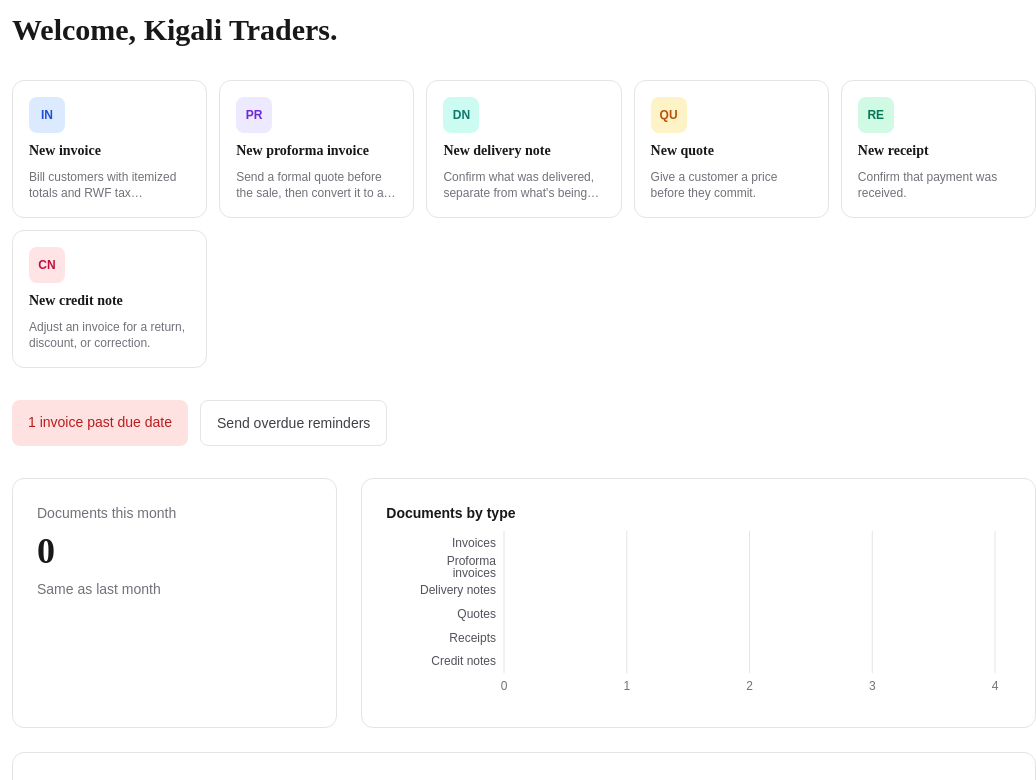
Test: Dashboard › sends reminders and shows a confirmation when 'Send reminders' is clicked
The width and height of the screenshot is (1036, 780).
Click the button "Send overdue reminders". click: (294, 423)
box: top-left (200, 400), bottom-right (387, 446)
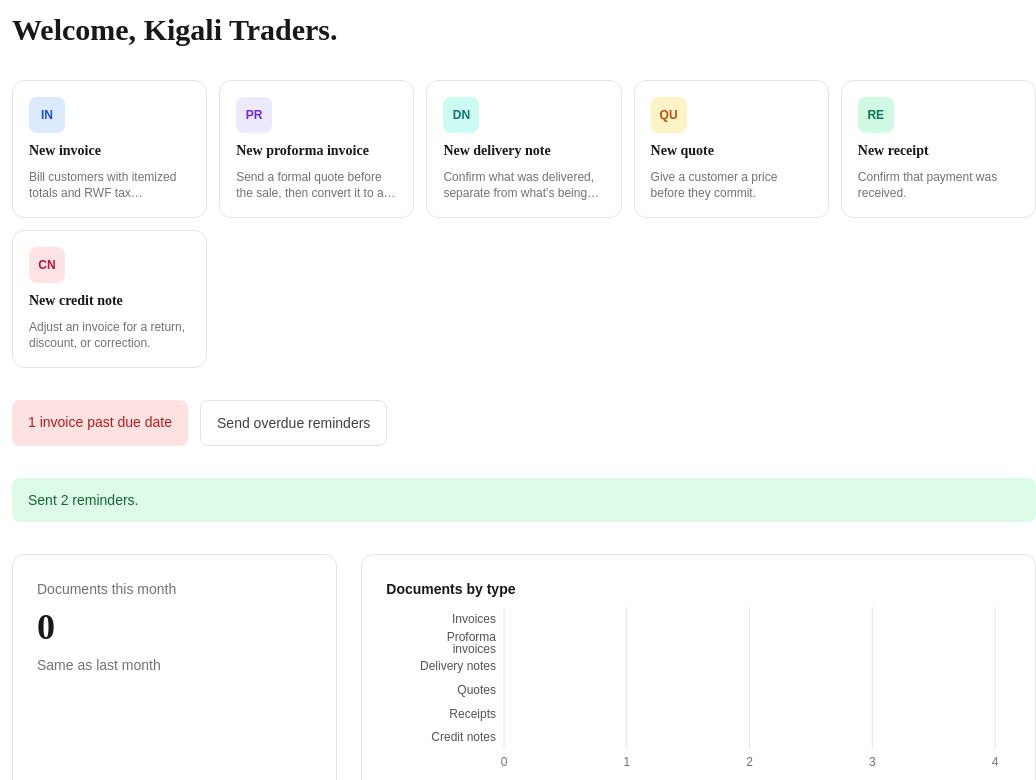
Now the text "Sent 2 reminders." is shown, box top-left (12, 478), bottom-right (1035, 522)
